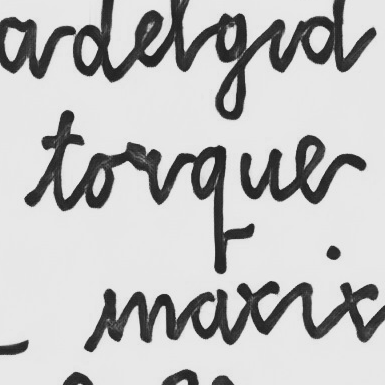e: (292, 132, 333, 206)
o: (80, 149, 116, 210)
q: (188, 143, 231, 275)
r: (120, 141, 166, 205)
t: (39, 108, 86, 213)
u: (237, 146, 284, 201)
